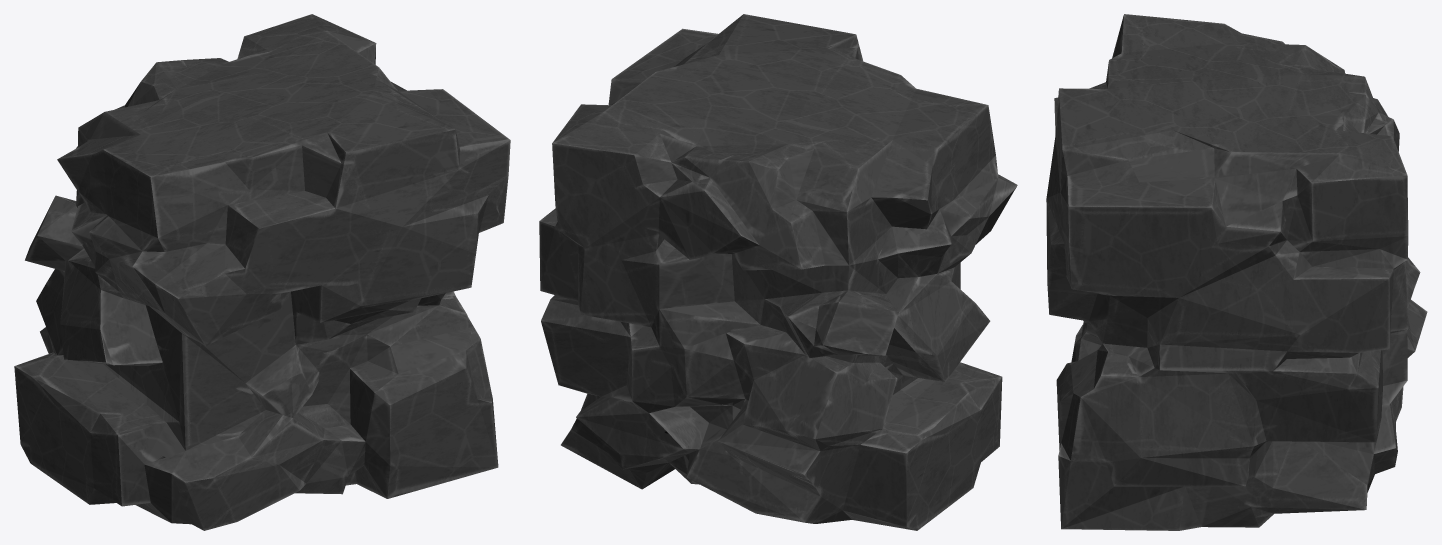
The model's file is CLIFF 1 LOD.fbx.
The picture shows the model from 3 angles, left to right: view 1: azimuth 30°, elevation 25°; view 2: azimuth 150°, elevation 25°; view 3: azimuth 270°, elevation 25°; orthographic projection. The views are drawn at different scales.
Visible parts, largest first — view 1: CLIFF 1 LOD; view 2: CLIFF 1 LOD; view 3: CLIFF 1 LOD.
Boxes of the visible parts, <box> form: CLIFF 1 LOD: <box>14,14,510,530</box>; CLIFF 1 LOD: <box>539,14,1017,530</box>; CLIFF 1 LOD: <box>1046,14,1427,530</box>.
Size of the model in its own units: 26.67 by 25.92 by 23.61.
